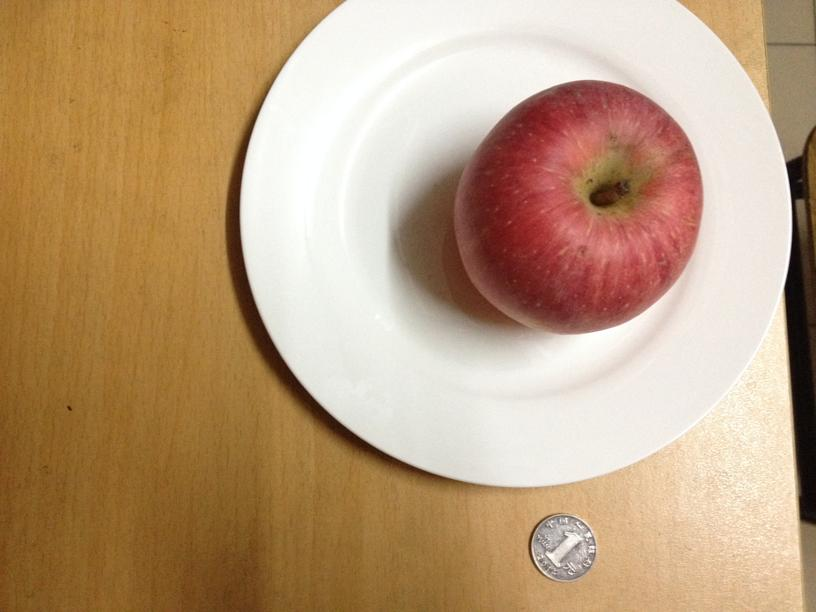apple: (453, 80, 705, 335)
coin: (527, 515, 598, 582)
